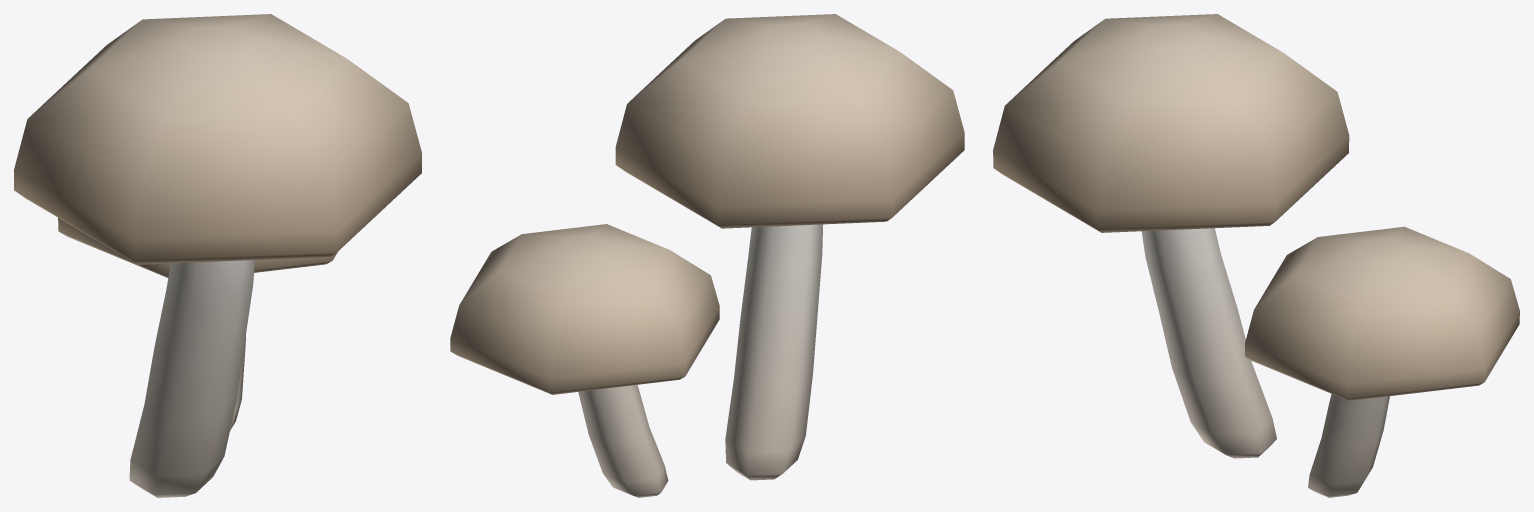
File: dungeonkit_decor_mushrooms.fbx
The picture shows the model from 3 angles, left to right: view 1: azimuth 30°, elevation 25°; view 2: azimuth 150°, elevation 25°; view 3: azimuth 270°, elevation 25°; orthographic projection. The views are drawn at different scales.
Visible parts, largest first — view 1: Cylinder.036; view 2: Cylinder.036; view 3: Cylinder.036.
Part boxes in pixels (x1,y1,x2,y2): Cylinder.036: (14,14,421,497); Cylinder.036: (450,14,964,497); Cylinder.036: (993,14,1519,497).
Size of the model in its own units: 72.51 by 79.53 by 90.72.
